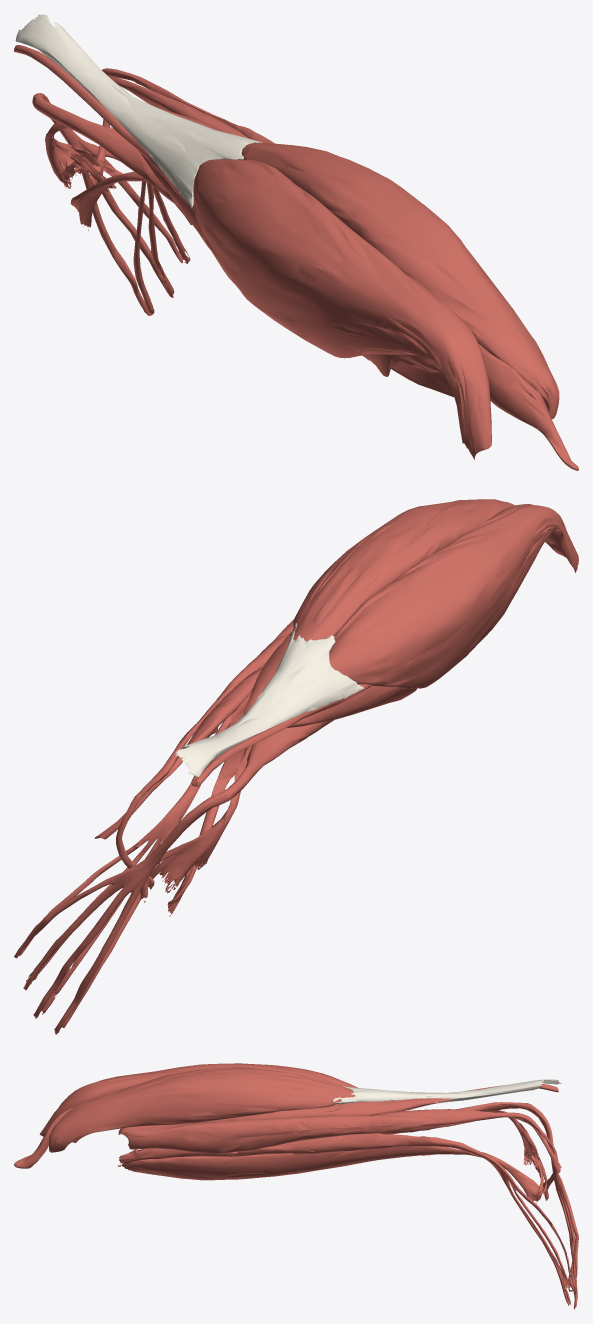
Rendered from calfm.glb.
3 views of the same model, one above another, from view 1: azimuth 30°, elevation 25°; view 2: azimuth 150°, elevation 25°; view 3: azimuth 270°, elevation 25° (orthographic). The views are drawn at different scales.
Parts seen in each view (by area): view 1: medial head of left gastrocnemius, lateral head of left gastrocnemius, left calcaneal tendon, left flexor digitorum longus, left plantaris, left extensor digitorum longus, left tibialis posterior, left tibialis anterior, left fibularis brevis, left fibularis longus, left popliteus, left soleus; view 2: medial head of left gastrocnemius, lateral head of left gastrocnemius, left flexor digitorum longus, left calcaneal tendon, left extensor digitorum longus, left soleus, left tibialis posterior, left fibularis longus, left fibularis brevis, left plantaris, left tibialis anterior; view 3: lateral head of left gastrocnemius, left fibularis longus, left tibialis anterior, left extensor digitorum longus, medial head of left gastrocnemius, left soleus, left calcaneal tendon, left flexor digitorum longus, left fibularis brevis, left tibialis posterior, left plantaris.
Boxes of the visible parts, left/top/right/bottom form: medial head of left gastrocnemius: left=193, top=159, right=491, bottom=459; lateral head of left gastrocnemius: left=241, top=142, right=559, bottom=419; left calcaneal tendon: left=15, top=14, right=262, bottom=207; left flexor digitorum longus: left=32, top=93, right=191, bottom=315; left plantaris: left=14, top=45, right=578, bottom=470; left extensor digitorum longus: left=133, top=181, right=190, bottom=315; left tibialis posterior: left=45, top=122, right=122, bottom=195; left tibialis anterior: left=70, top=171, right=453, bottom=397; left fibularis brevis: left=109, top=76, right=249, bottom=138; left fibularis longus: left=88, top=68, right=274, bottom=186; left popliteus: left=362, top=354, right=440, bottom=376; left soleus: left=139, top=108, right=230, bottom=248; medial head of left gastrocnemius: left=329, top=504, right=578, bottom=688; lateral head of left gastrocnemius: left=293, top=499, right=514, bottom=640; left flexor digitorum longus: left=14, top=720, right=333, bottom=1034; left calcaneal tendon: left=175, top=623, right=364, bottom=776; left extensor digitorum longus: left=18, top=690, right=252, bottom=1027; left soleus: left=243, top=631, right=417, bottom=727; left tibialis posterior: left=149, top=745, right=251, bottom=892; left fibularis longus: left=116, top=619, right=294, bottom=902; left fibularis brevis: left=94, top=667, right=262, bottom=839; left plantaris: left=191, top=684, right=372, bottom=786; left tibialis anterior: left=167, top=749, right=245, bottom=916; lateral head of left gastrocnemius: left=49, top=1067, right=355, bottom=1152; left fibularis longus: left=127, top=1112, right=558, bottom=1200; left tibialis anterior: left=122, top=1146, right=539, bottom=1203; left extensor digitorum longus: left=117, top=1133, right=573, bottom=1305; medial head of left gastrocnemius: left=39, top=1063, right=357, bottom=1136; left soleus: left=118, top=1098, right=453, bottom=1137; left calcaneal tendon: left=333, top=1079, right=561, bottom=1104; left flexor digitorum longus: left=454, top=1102, right=578, bottom=1309; left fibularis brevis: left=373, top=1109, right=561, bottom=1173; left tibialis posterior: left=380, top=1110, right=547, bottom=1199; left plantaris: left=14, top=1084, right=558, bottom=1168.
Bounding box in the file's own units: 144 × 221 × 528.
